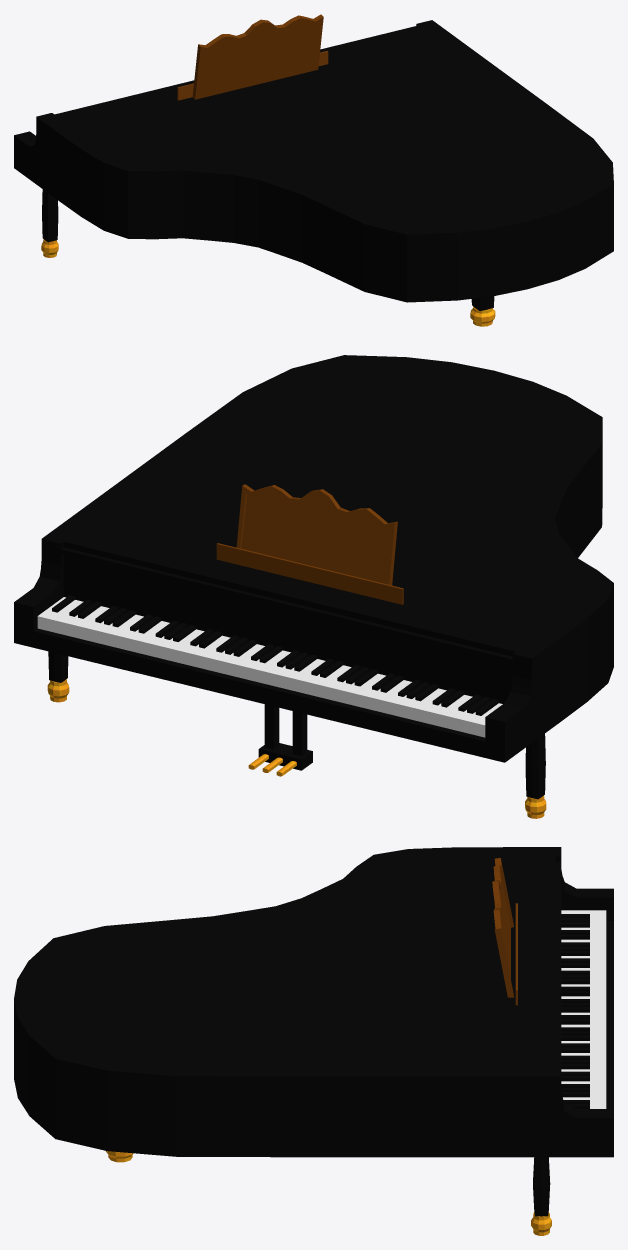
The model's file is grand_piano_new.obj.
3 views of the same model, one above another, from view 1: azimuth 30°, elevation 25°; view 2: azimuth 150°, elevation 25°; view 3: azimuth 270°, elevation 25° (orthographic). The views are drawn at different scales.
Visible parts, largest first — view 1: Sphere; view 2: Sphere; view 3: Sphere.
Part boxes in pixels (x1=…): Sphere: x1=14, y1=14, x2=613, y2=326; Sphere: x1=14, y1=355, x2=613, y2=818; Sphere: x1=14, y1=847, x2=613, y2=1235.
Size of the model in its own units: 5.33 by 2.57 by 5.83.
